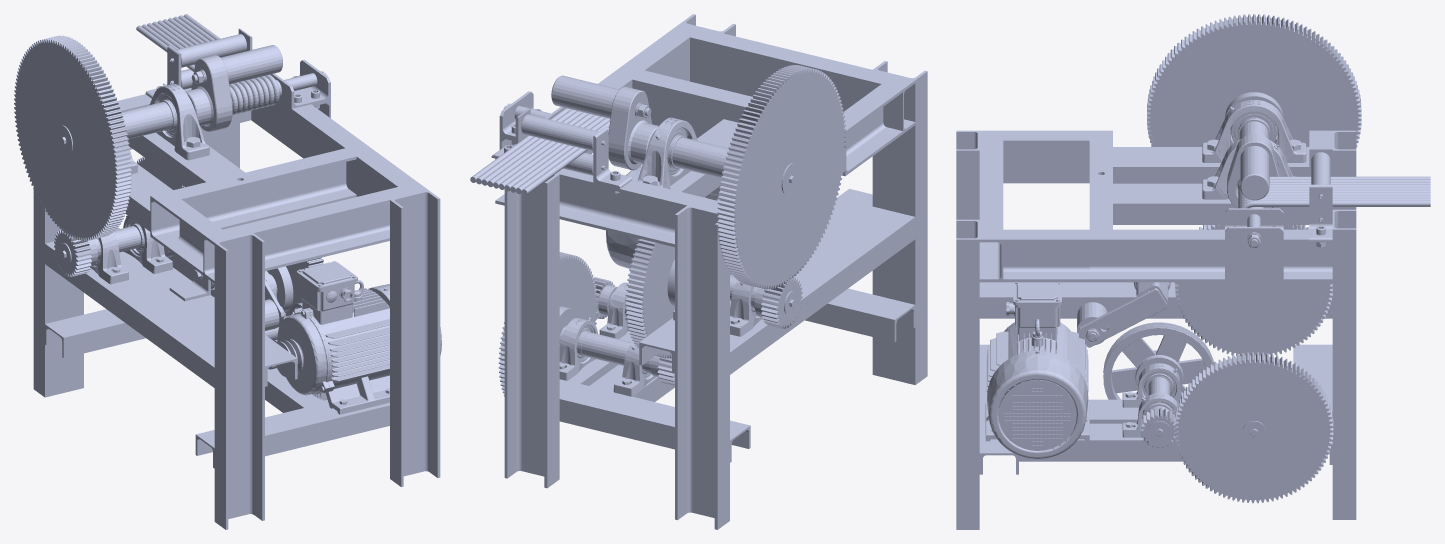
Rendered from rebar-bender-assembly.glb.
3 views of the same model, side by side, from view 1: azimuth 30°, elevation 25°; view 2: azimuth 150°, elevation 25°; view 3: azimuth 270°, elevation 25° (orthographic). The views are drawn at different scales.
Parts seen in each view (by area): view 1: DTP share, seams bodies, YG4-135, ChannelLEG_1, ChannelLEG_2, 132S Top.stp, Channel5, Channel2, Channel1, Channel100_4, Channel100_2, Channel100_1, Channel (+10 smaller); view 2: DTP share, seams bodies, YG4-135, Channel1, ChannelLEG, ChannelLEG_1, Channel5, Channel2, Channel100_2, YG4-99 - 50mm, Channel100_4, Channel, YG4-99 (+13 smaller); view 3: DTP share, seams bodies, YG4-135, YG4-99, 132S Top.stp, YG4-99 - 50mm, ChannelLEG, ChannelLEG_2, Channel, Channel_1, _pbt__spa-a2802_02, Channel5, Channel100_1 (+11 smaller).
Part boxes in pixels (x1,y1,x2,y2): DTP share, seams bodies: [117, 14, 375, 244]; YG4-135: [14, 35, 131, 240]; ChannelLEG_1: [214, 233, 264, 529]; ChannelLEG_2: [390, 190, 440, 486]; 132S Top.stp: [268, 261, 441, 414]; Channel5: [203, 182, 428, 283]; Channel2: [45, 241, 214, 387]; Channel1: [33, 190, 83, 397]; Channel100_4: [195, 402, 389, 468]; Channel100_2: [45, 287, 214, 358]; Channel100_1: [116, 227, 297, 386]; Channel: [161, 199, 222, 274]; DTP share, seams bodies: [470, 65, 857, 247]; YG4-135: [717, 65, 846, 289]; Channel1: [675, 205, 729, 529]; ChannelLEG: [504, 173, 559, 488]; ChannelLEG_1: [872, 61, 927, 385]; Channel5: [669, 23, 915, 133]; Channel2: [730, 206, 915, 374]; Channel100_2: [559, 379, 750, 462]; YG4-99 - 50mm: [625, 197, 705, 358]; Channel100_4: [805, 288, 915, 342]; Channel: [843, 84, 902, 166]; YG4-99: [498, 252, 597, 396]; DTP share, seams bodies: [1089, 100, 1430, 292]; YG4-135: [1147, 14, 1361, 147]; YG4-99: [1175, 352, 1333, 503]; 132S Top.stp: [985, 282, 1089, 458]; YG4-99 - 50mm: [1175, 225, 1332, 356]; ChannelLEG: [1332, 209, 1356, 519]; ChannelLEG_2: [956, 219, 979, 529]; Channel: [1003, 130, 1089, 183]; Channel_1: [1003, 229, 1089, 282]; _pbt__spa-a2802_02: [1103, 322, 1213, 399]; Channel5: [979, 130, 1003, 282]; Channel100_1: [979, 282, 1332, 318].
Size of the model in its own units: 808 by 1121 by 1210.
